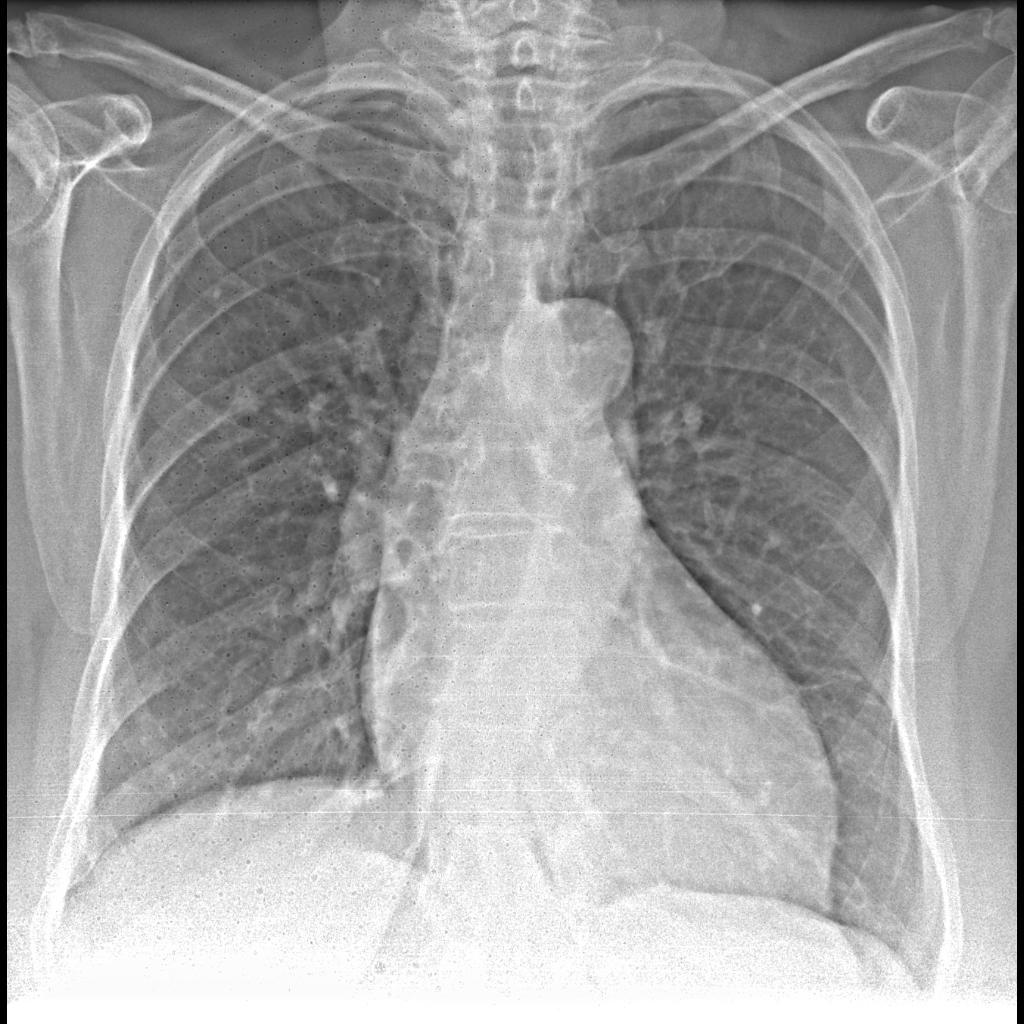Nodule: (219, 378, 278, 435)
